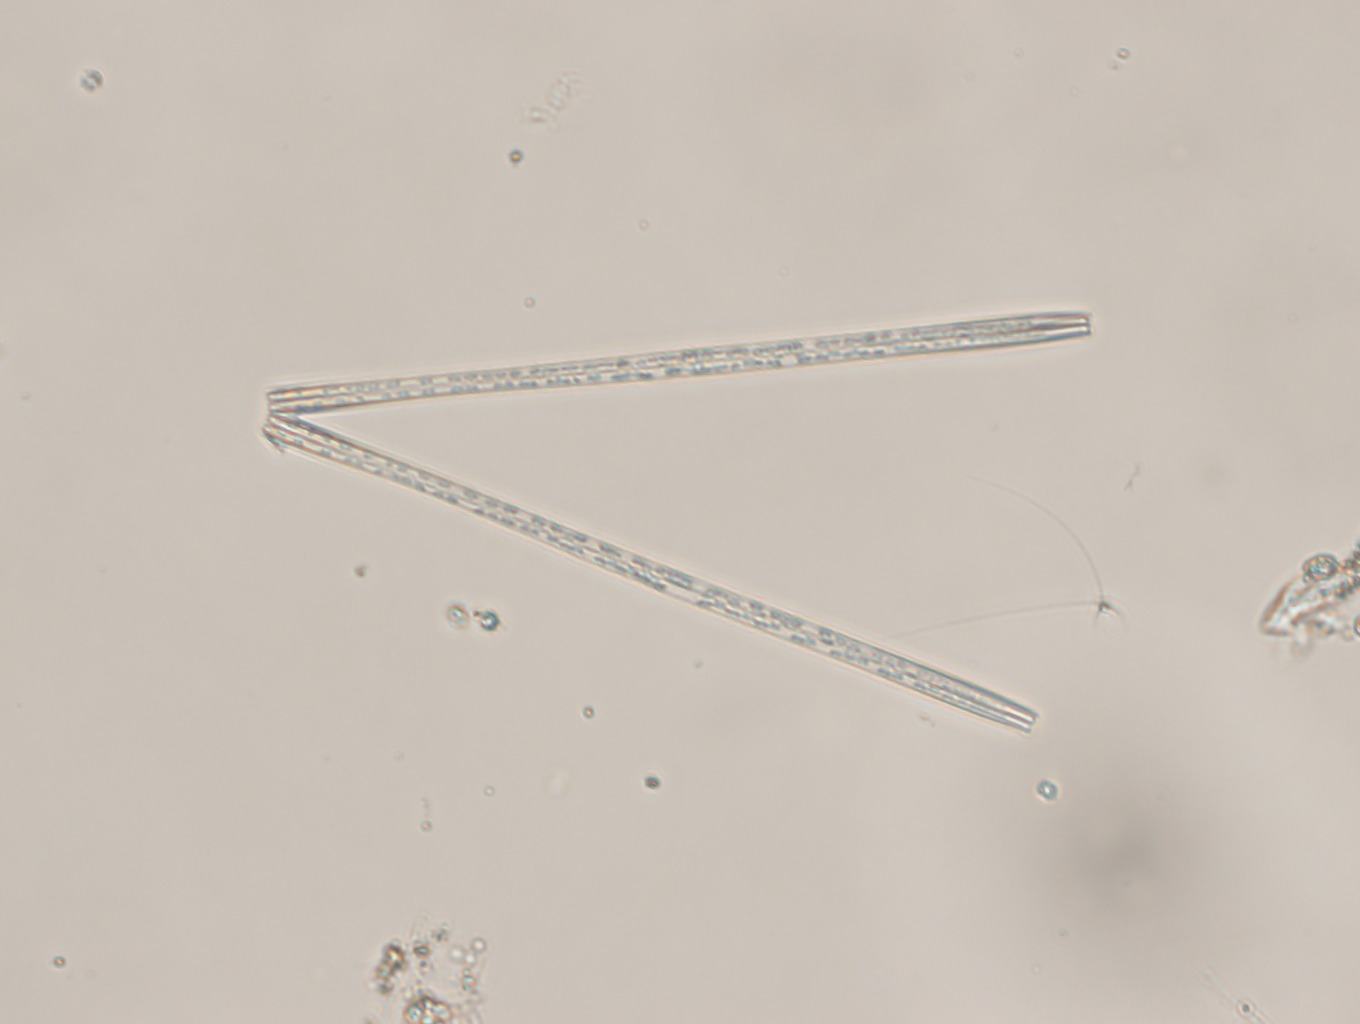thalassionema frauenfeldii: (250, 273, 1092, 740)
